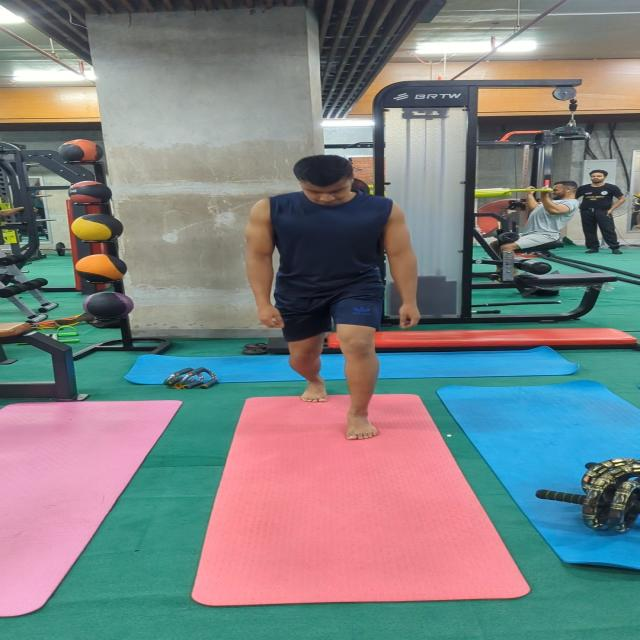Normal_Lunges: (240, 150, 425, 442)
